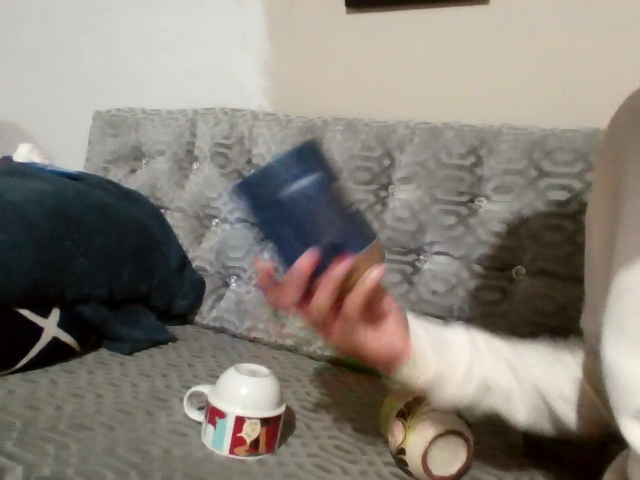botella: (190, 365, 321, 480), (355, 380, 504, 480)
